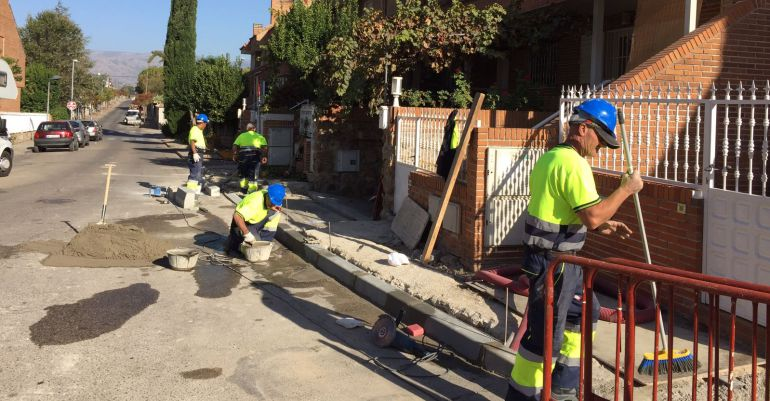casco: (571, 95, 618, 139), (266, 182, 286, 207), (194, 111, 210, 124)
